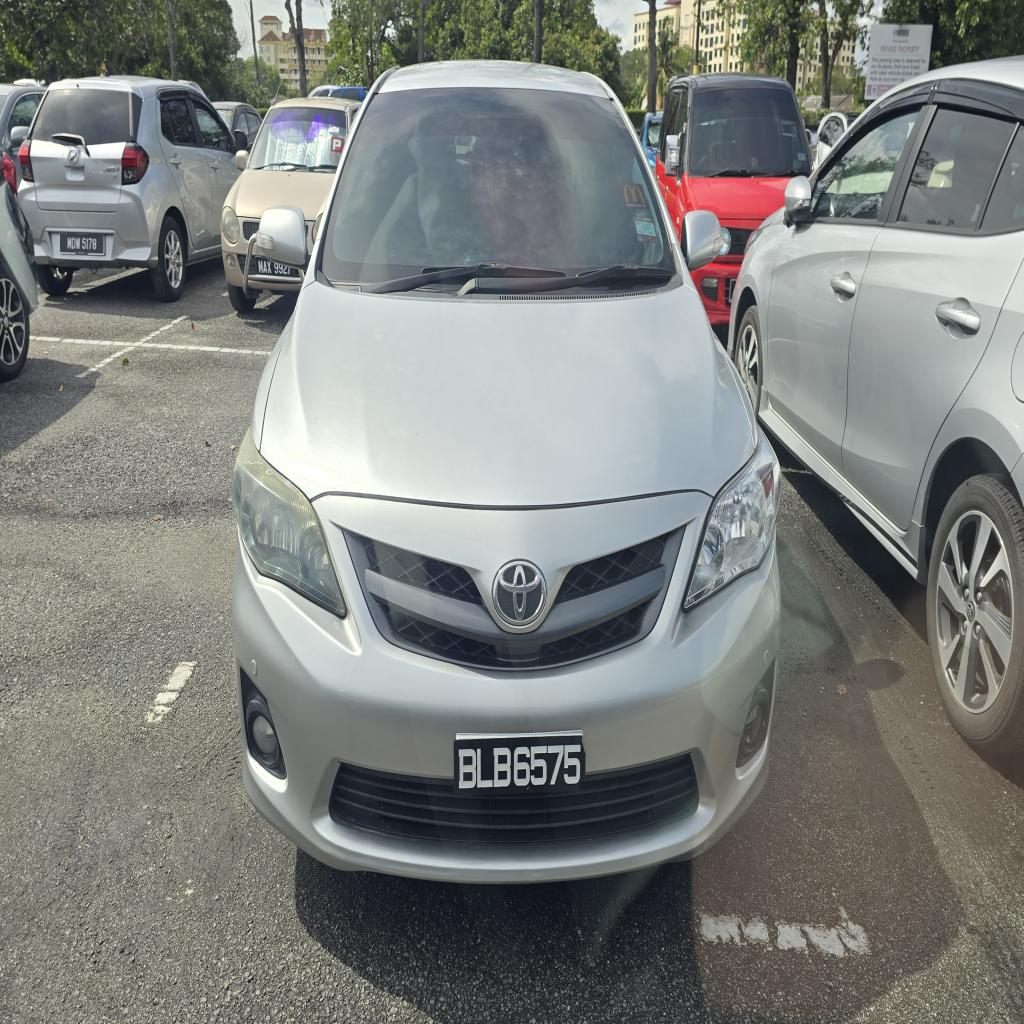car: (233, 62, 780, 882), (19, 77, 244, 301)
car plate: (455, 733, 584, 796), (60, 233, 104, 255)
